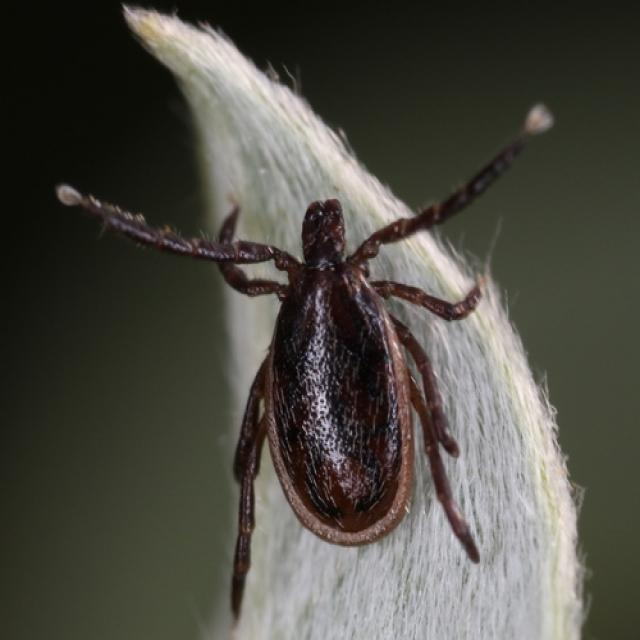Ixodes Ricinus-M: (58, 124, 540, 620)
